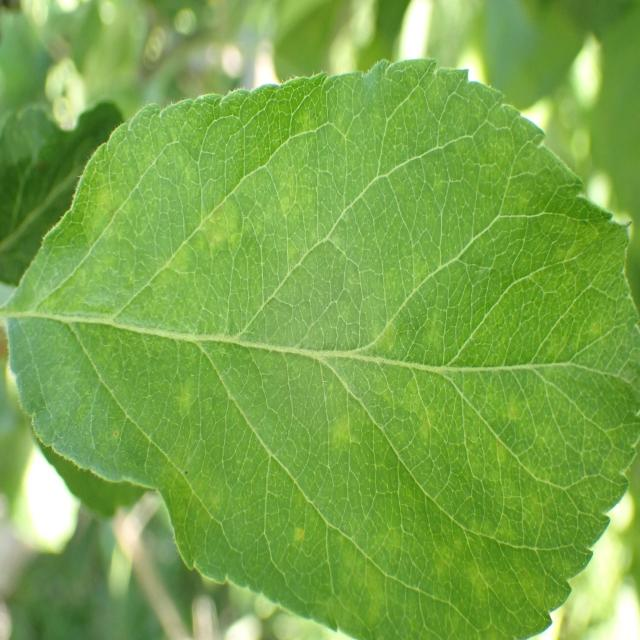scab: (56, 107, 608, 608)
